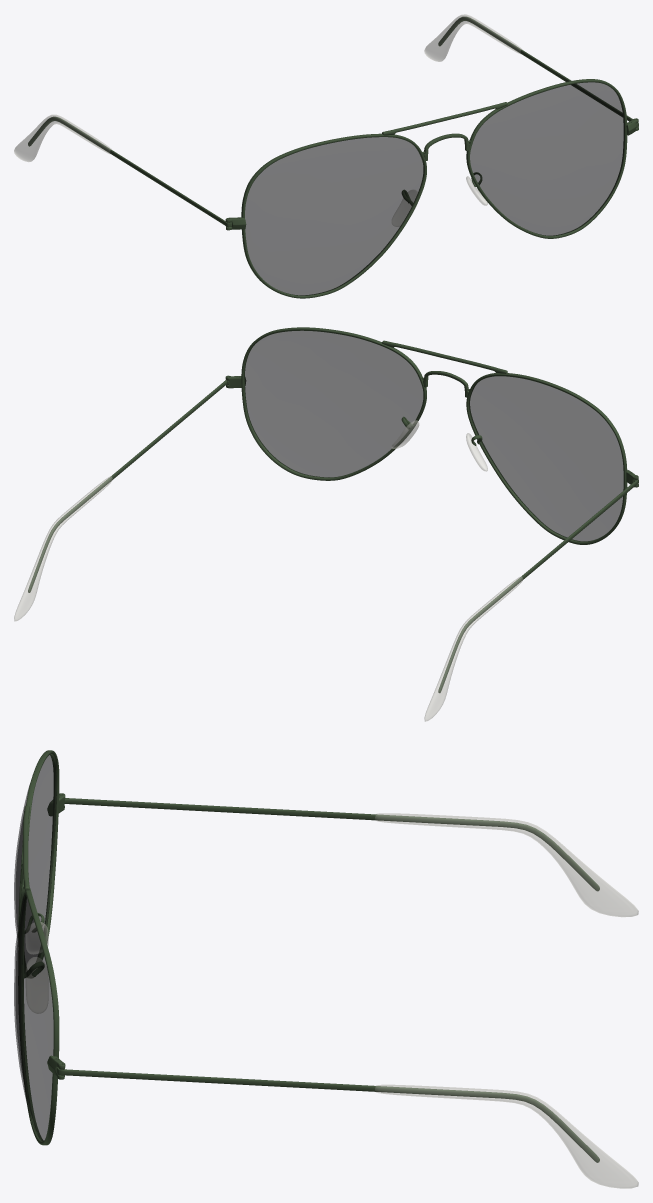
Rendered from oversize-kare-zeytin-yesili.glb.
The picture shows the model from 3 angles, top to bottom: view 1: azimuth 30°, elevation 25°; view 2: azimuth 150°, elevation 25°; view 3: azimuth 270°, elevation 25°; orthographic projection. The views are drawn at different scales.
Parts seen in each view (by area): view 1: OPTIK_PRODUCT_252; view 2: OPTIK_PRODUCT_252; view 3: OPTIK_PRODUCT_252.
Boxes of the visible parts, box(x1,y1,x2,y2) form: OPTIK_PRODUCT_252: box(14, 14, 638, 298); OPTIK_PRODUCT_252: box(14, 327, 638, 721); OPTIK_PRODUCT_252: box(14, 750, 638, 1188).
Size of the model in its own units: 0.215 by 0.076 by 0.2062.
